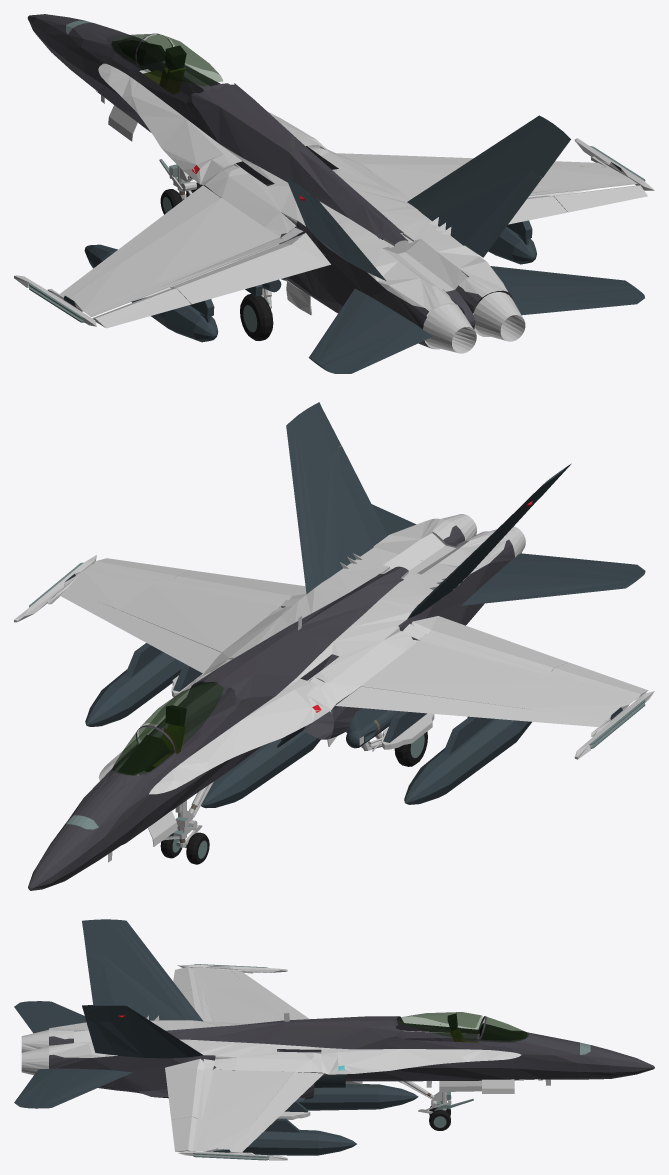
3 views of the same model, one above another, from view 1: azimuth 30°, elevation 25°; view 2: azimuth 150°, elevation 25°; view 3: azimuth 270°, elevation 25° (orthographic). The views are drawn at different scales.
Parts seen in each view (by area): view 1: HornFuse, HornWing_, HornEsta, HornRudd_, HornLfla, HornNozz, HornLfue, HornLfl2, HornCono, HornFus2, HornLRud, HornRrud (+13 smaller); view 2: HornFuse, HornWing_, HornLfue, HornRudd_, HornEsta, HornLfl2, HornRfl3, HornCono, HornLfla, HornWsup, HornLRud, HornCon2 (+12 smaller); view 3: HornFuse, HornWing_, HornRudd_, HornLfue, HornEsta, HornRRud, HornRfla, HornRfl3, HornCono, HornNozz, HornEvt, HornLrud (+10 smaller).
Part boxes in pixels (box(x1,y1,x2,y2)): HornFuse: box(27, 14, 513, 349); HornWing_: box(14, 138, 654, 326); HornEsta: box(308, 266, 644, 373); HornRudd_: box(319, 115, 570, 245); HornLfla: box(170, 233, 330, 304); HornNozz: box(423, 292, 525, 353); HornLfue: box(84, 185, 536, 342); HornLfl2: box(60, 185, 220, 297); HornCono: box(138, 34, 222, 86); HornFus2: box(114, 69, 468, 291); HornLRud: box(286, 177, 367, 272); HornRrud: box(464, 170, 541, 257); HornFuse: box(28, 518, 514, 890); HornWing_: box(14, 555, 654, 759); HornLfue: box(85, 652, 531, 808); HornRudd_: box(286, 402, 533, 618); HornEsta: box(371, 504, 645, 605); HornLfl2: box(335, 686, 606, 726); HornRfl3: box(60, 588, 221, 673); HornCono: box(139, 682, 223, 748); HornLfla: box(411, 616, 567, 671); HornWsup: box(124, 643, 493, 754); HornLRud: box(408, 463, 571, 618); HornCon2: box(112, 727, 173, 775); HornFuse: box(49, 1015, 654, 1099); HornWing_: box(177, 964, 293, 1160); HornRudd_: box(82, 919, 203, 1021); HornLfue: box(203, 1084, 418, 1155); HornEsta: box(14, 1001, 132, 1108); HornRRud: box(82, 1004, 203, 1057); HornRfla: box(165, 1058, 204, 1119); HornRfl3: box(231, 1072, 323, 1152); HornCono: box(399, 1012, 482, 1040); HornNozz: box(21, 1029, 48, 1075); HornEvt: box(398, 1079, 514, 1099); HornLrud: box(86, 953, 113, 1004).
Size of the model in its own units: 6.38 by 2.57 by 9.11.
